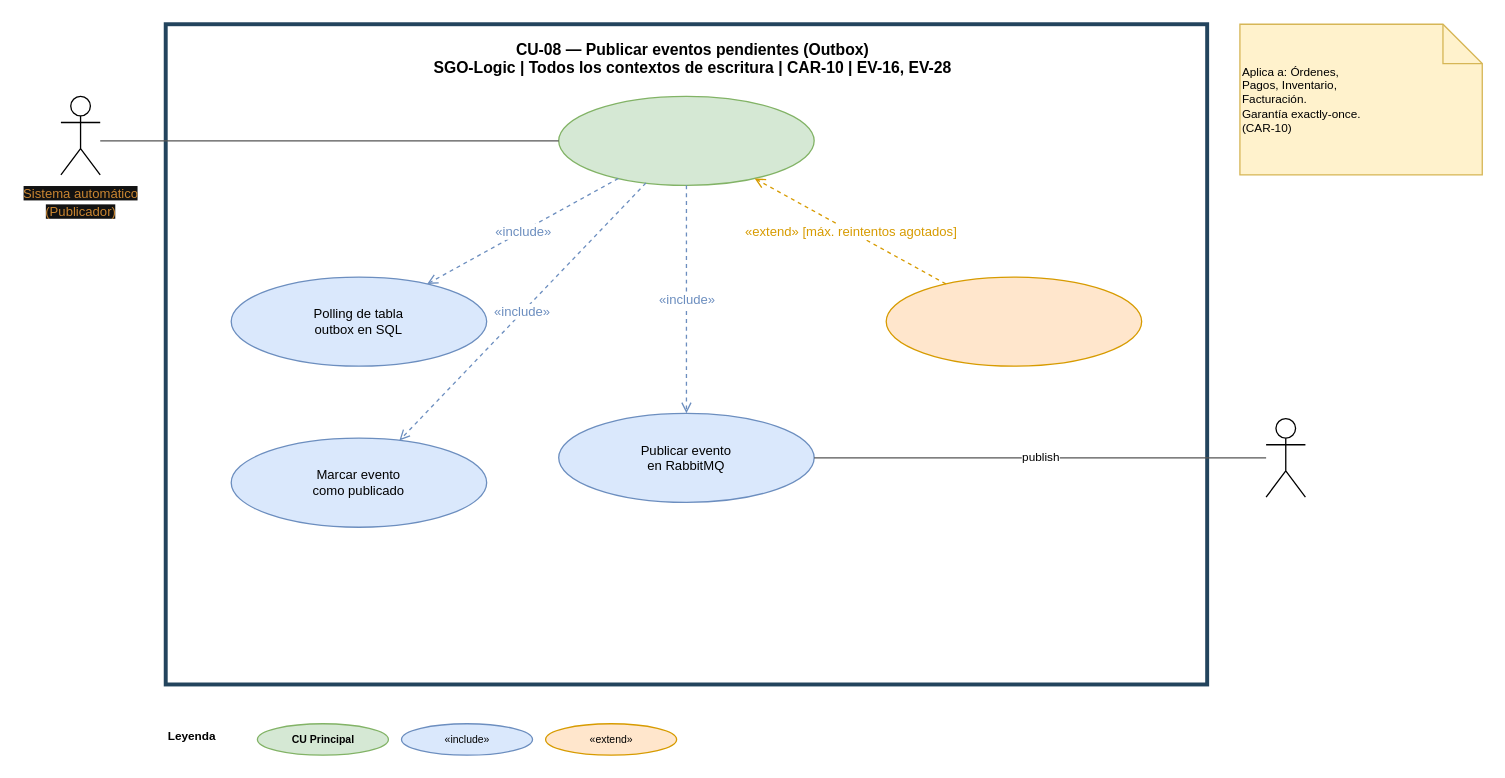
Image size: 1505x778. Some labels were removed from this diagram. The box of each missing label's shape, as (x1, y1, x2, y2) in pixels:
Mover a dead-letter exchange (DLX): (885, 276, 1142, 366)
Publicar eventos pendientes (Outbox): (557, 95, 814, 185)
RabbitMQ (broker): (1265, 417, 1305, 497)
